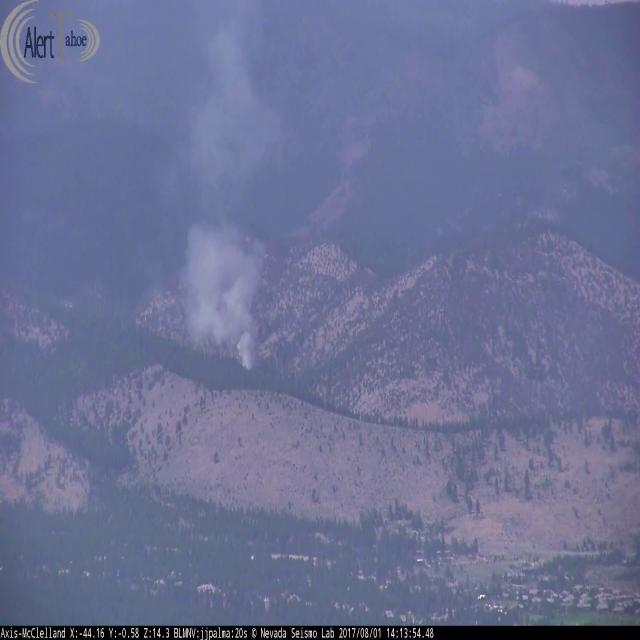smoke: (172, 17, 295, 384)
